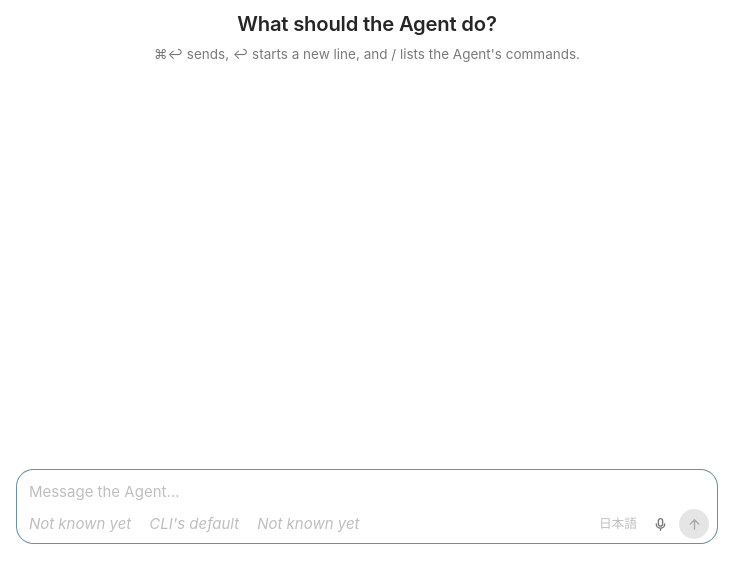
dictating in the composer › ends a recording stopped before main answered, with all it heard
This screenshot has width=735, height=561.
Click the button named "Dictate": (660, 524) [645, 509, 675, 539]
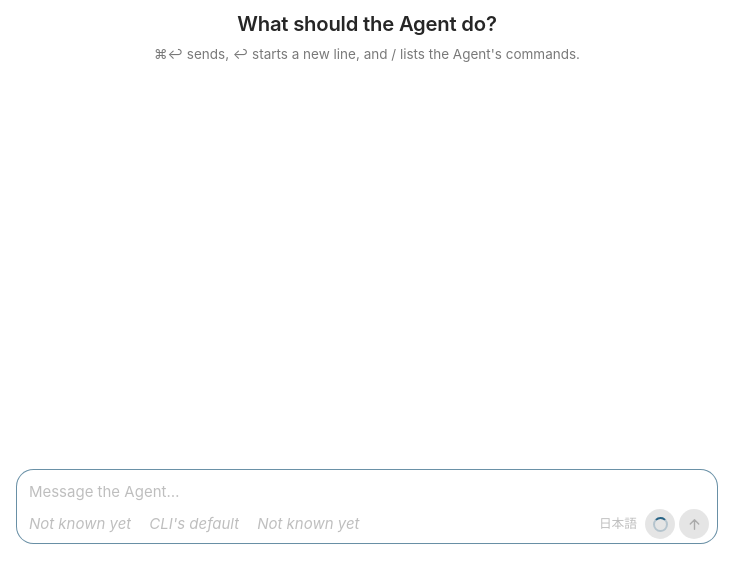
Expected: the button named "Stop dictating" is shown
Click the button named "Stop dictating": (660, 524) [645, 509, 675, 539]
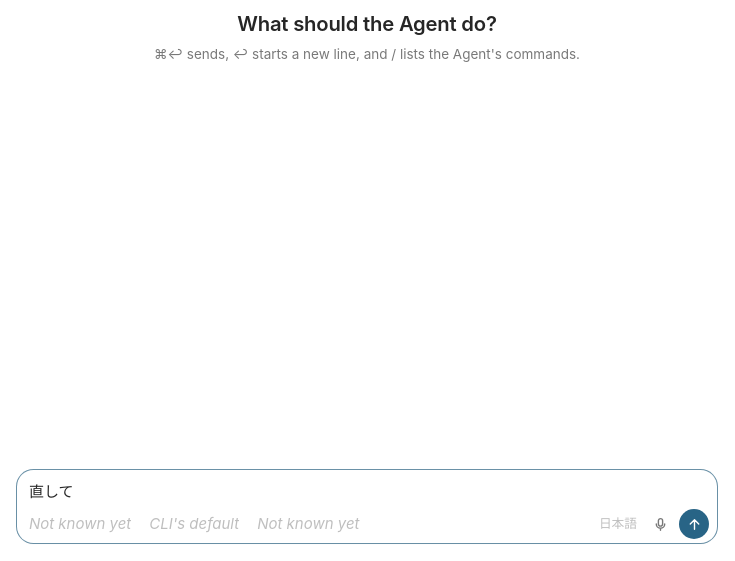
Expected: the text box named "Message to the Agent" holds "直して", [29, 478, 709, 505]
